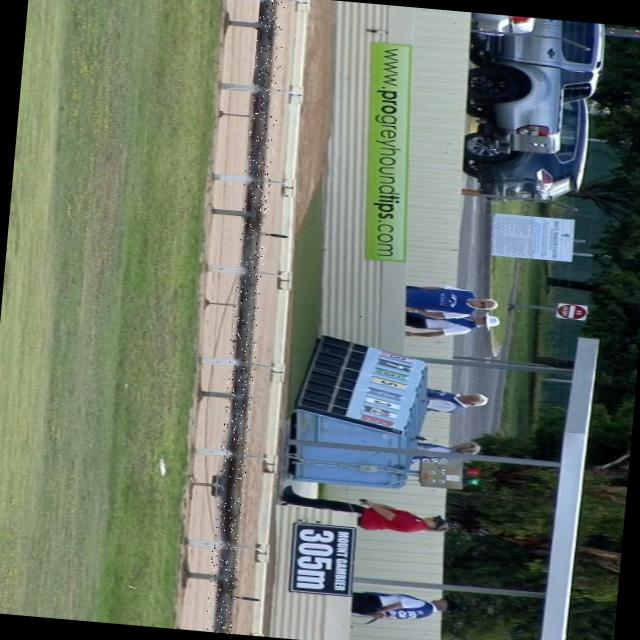rail: (212, 0, 276, 633)
